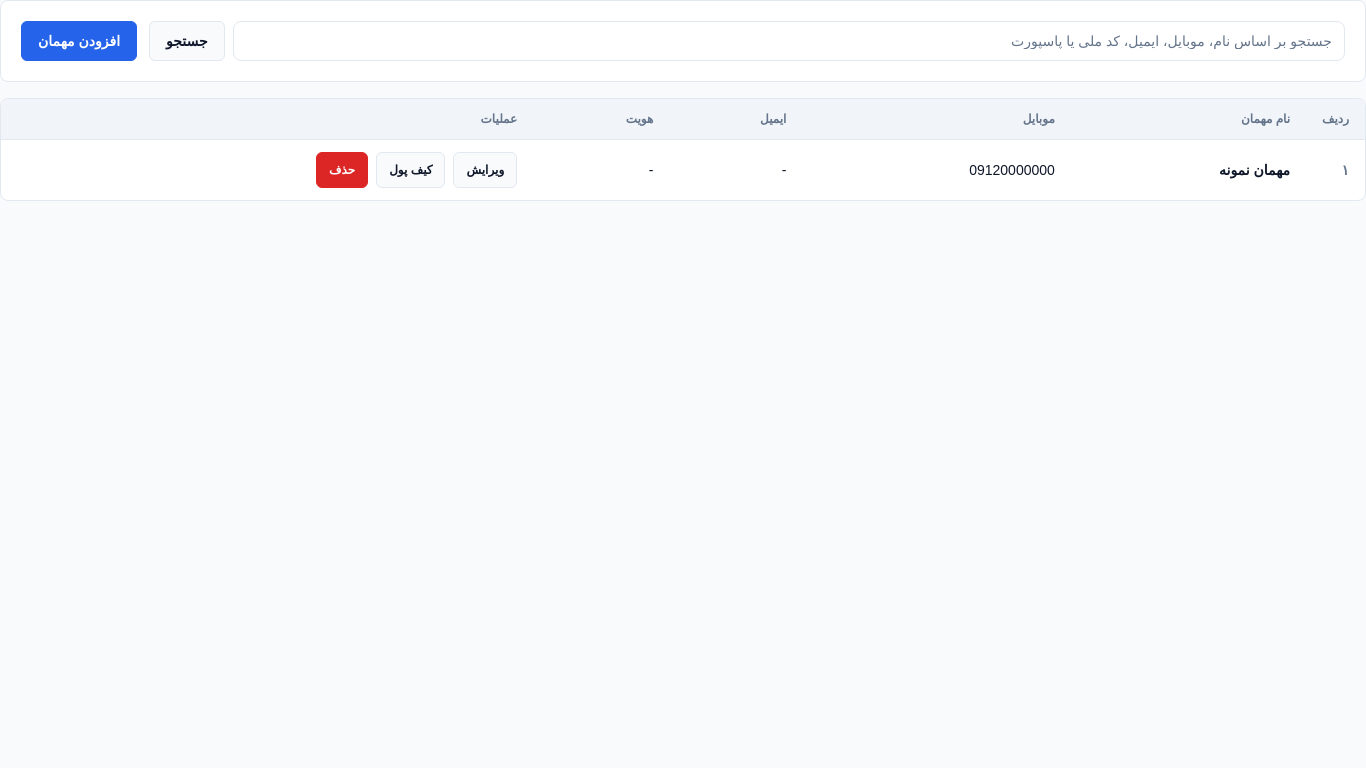
Test case: Admin Guest wallet summary › shows recent backend-signed transactions only for the linked User and keeps currencies separate
Click the button with aria-label "کیف پول مهمان نمونه" at (411, 170), box [376, 152, 446, 188]
(page scrolled)
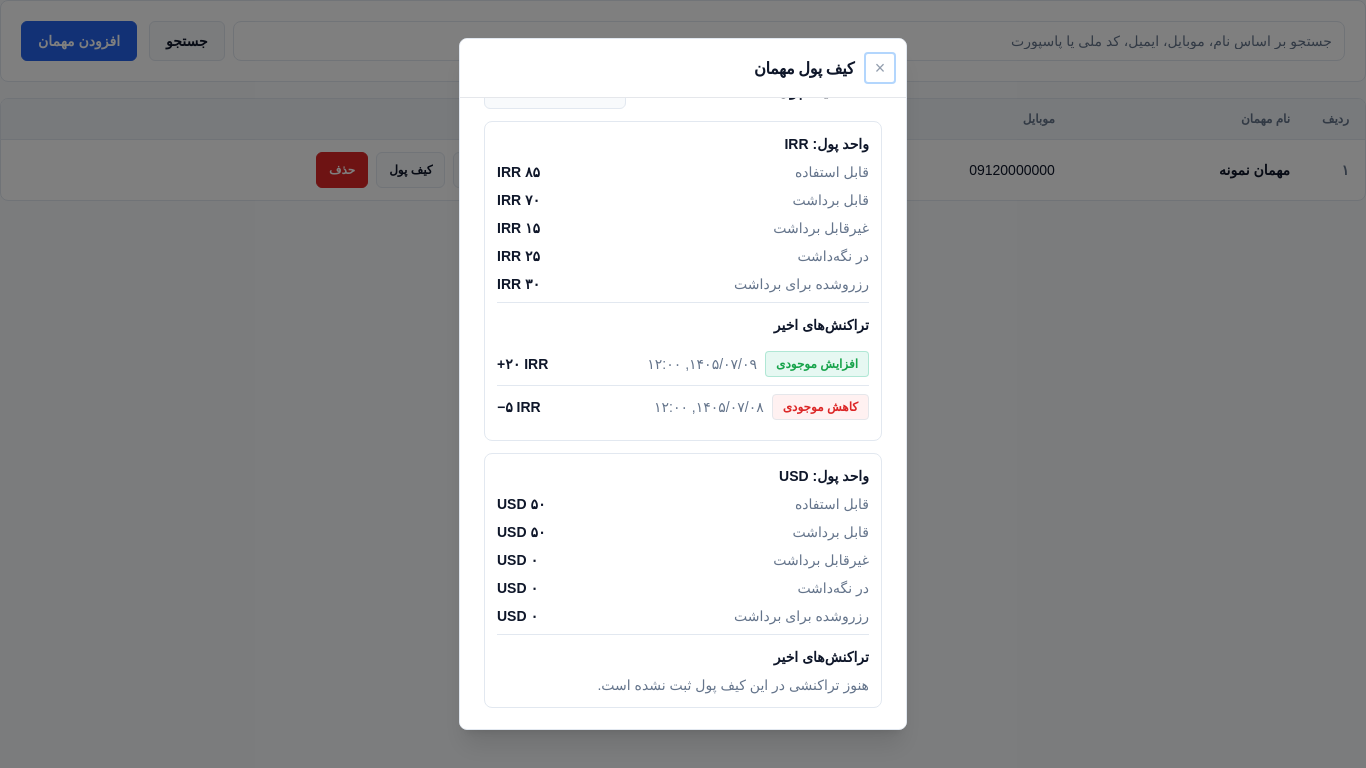
Result: the text "افزایش موجودی" is shown at [765, 351, 869, 377]
Result: the text "کاهش موجودی" is shown at [772, 394, 869, 420]
Result: the text "هنوز تراکنشی در این کیف پول ثبت نشده است." is shown at [597, 677, 869, 693]
